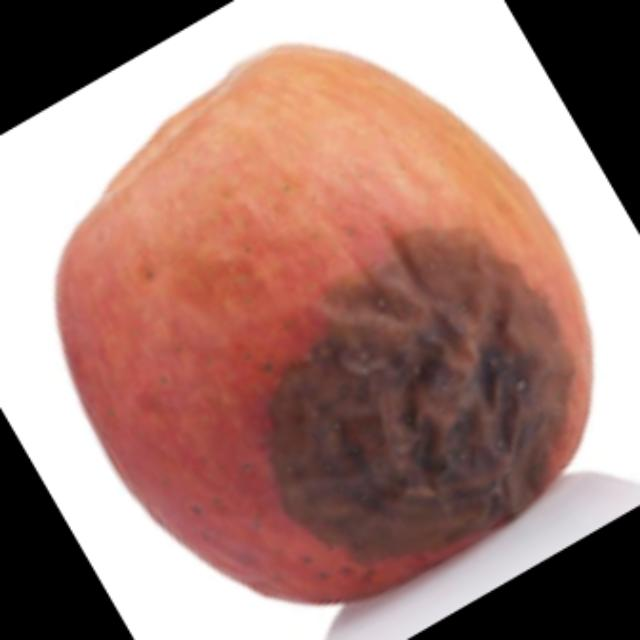Apel Tidak Segar: (41, 46, 611, 588)
